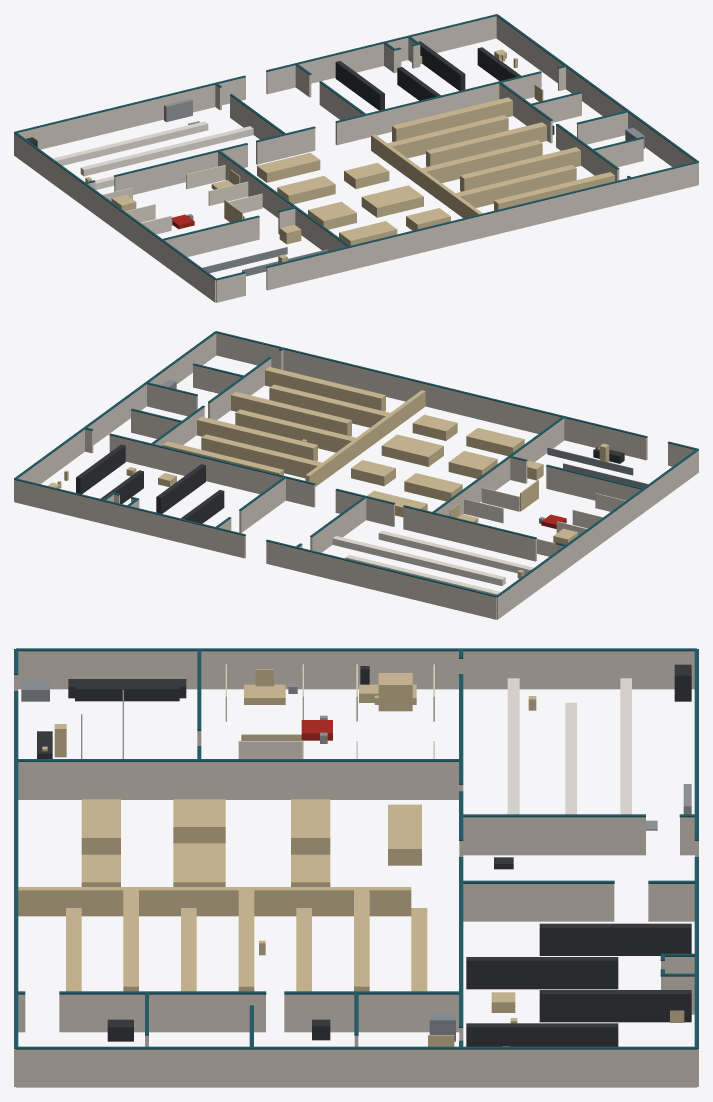
Rendered from solids.glb.
3 views of the same model, one above another, from view 1: azimuth 30°, elevation 25°; view 2: azimuth 150°, elevation 25°; view 3: azimuth 270°, elevation 25° (orthographic). The views are drawn at different scales.
Parts seen in each view (by area): view 1: BureauSolids; view 2: BureauSolids; view 3: BureauSolids.
Part boxes in pixels (left/top/right/bottom): BureauSolids: left=14, top=14, right=698, bottom=302; BureauSolids: left=14, top=331, right=698, bottom=619; BureauSolids: left=14, top=648, right=698, bottom=1087.
Size of the model in its own units: 72.32 by 3.32 by 52.32.
